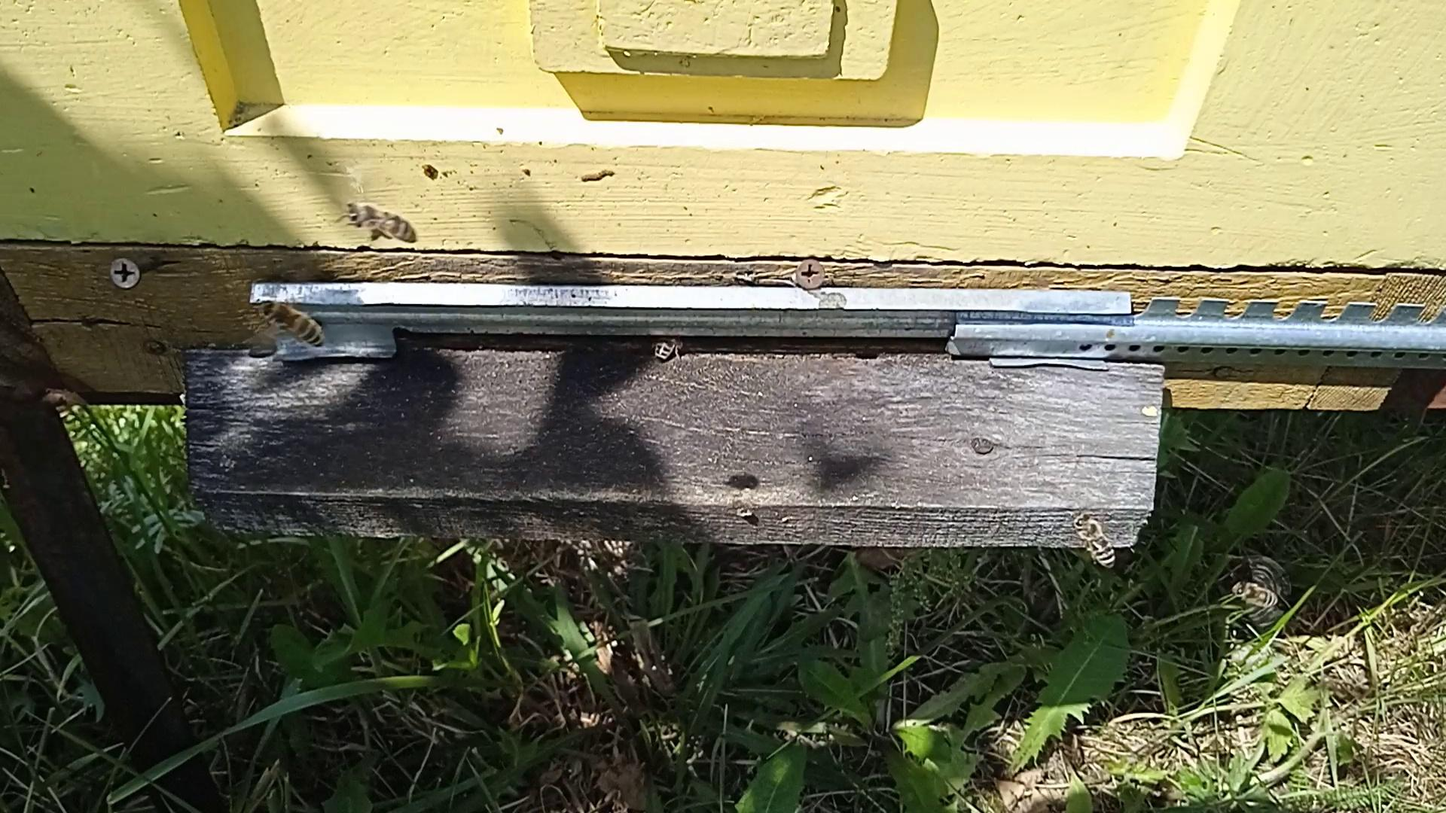worker-bee: (258, 299, 326, 348), (342, 203, 419, 245), (1073, 511, 1118, 569), (1230, 580, 1279, 609), (650, 335, 685, 362)
